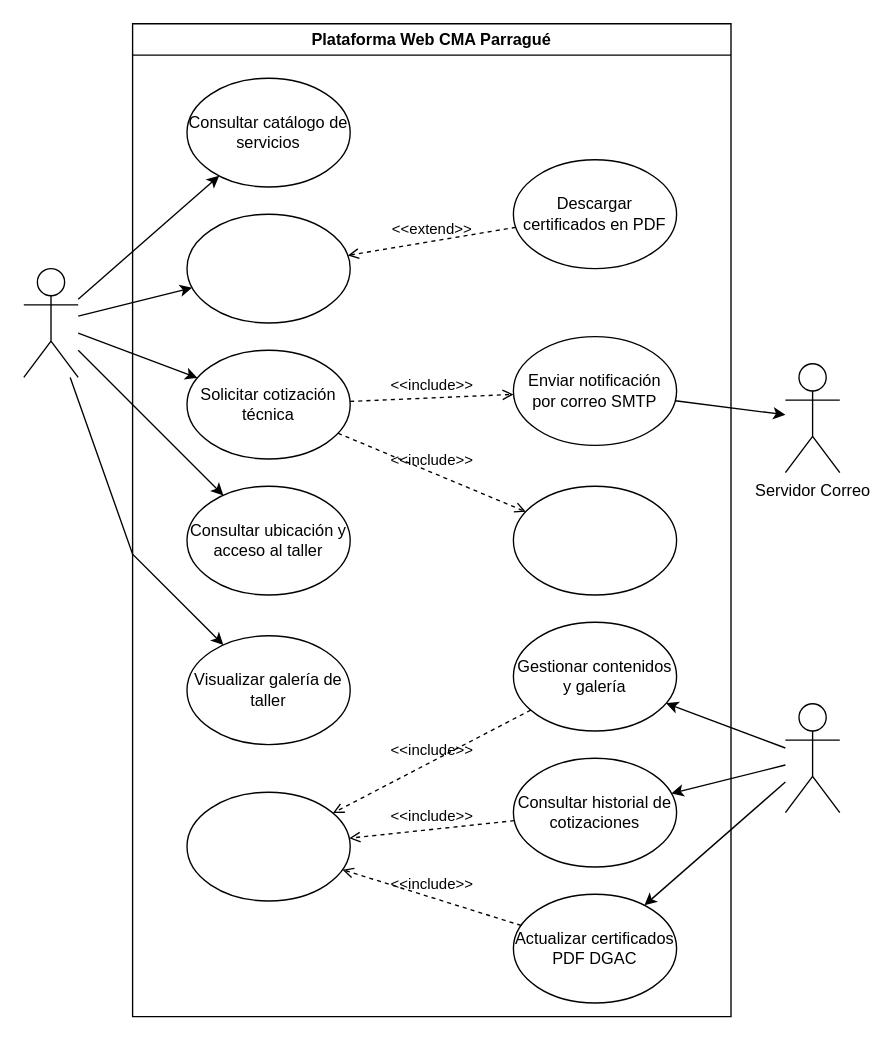
Image size: 894x1040. Some labels were removed from this diagram. The centre of each missing label's shape, as x and y in pixels:
Admin: [812,757]
Autenticarse en el sistema: [268,846]
Cliente: [50,322]
Validar datos técnicos: [594,540]
Verificar acreditaciones DGAC: [268,268]
